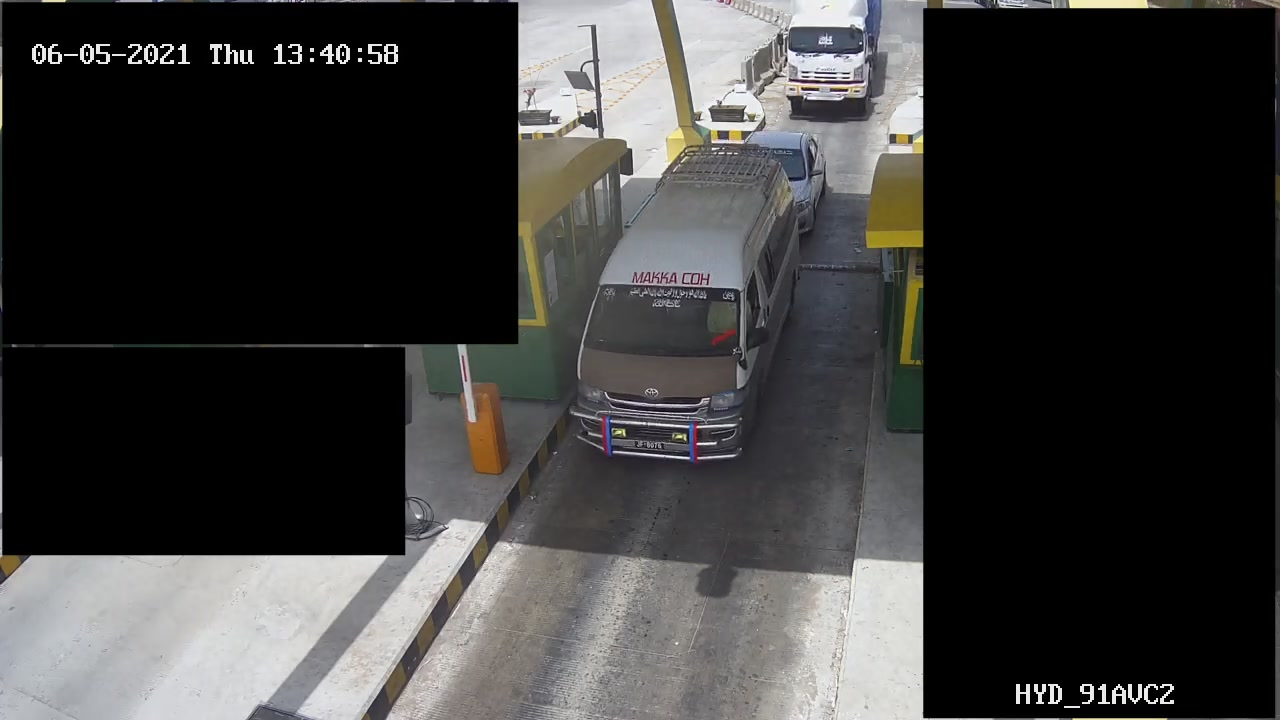F2: (582, 147, 793, 472)
